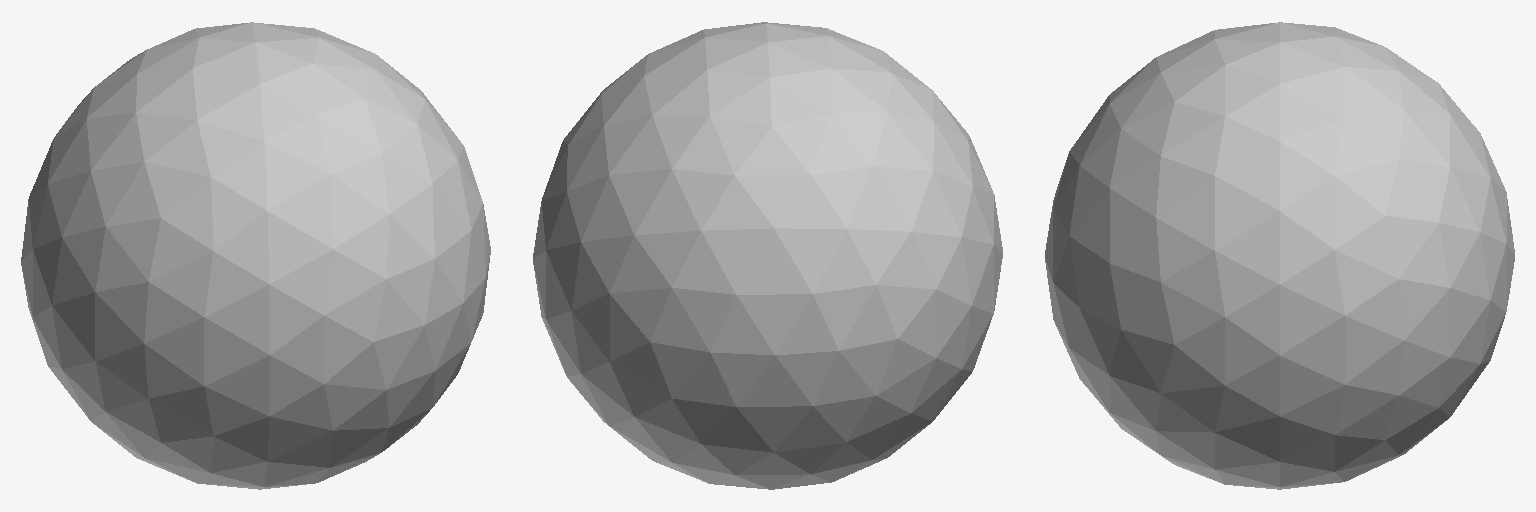
Rendered from Sphere_mit.obj.
3 renders of one model, left to right at view 1: azimuth 30°, elevation 25°; view 2: azimuth 150°, elevation 25°; view 3: azimuth 270°, elevation 25°, orthographic.
Parts seen in each view (by area): view 1: Mesh; view 2: Mesh; view 3: Mesh.
Part boxes in pixels (x1,y1,x2,y2): Mesh: (21, 22, 490, 489); Mesh: (533, 22, 1002, 489); Mesh: (1045, 22, 1514, 489).
Size of the model in its own units: 1.02 by 1.02 by 1.02.